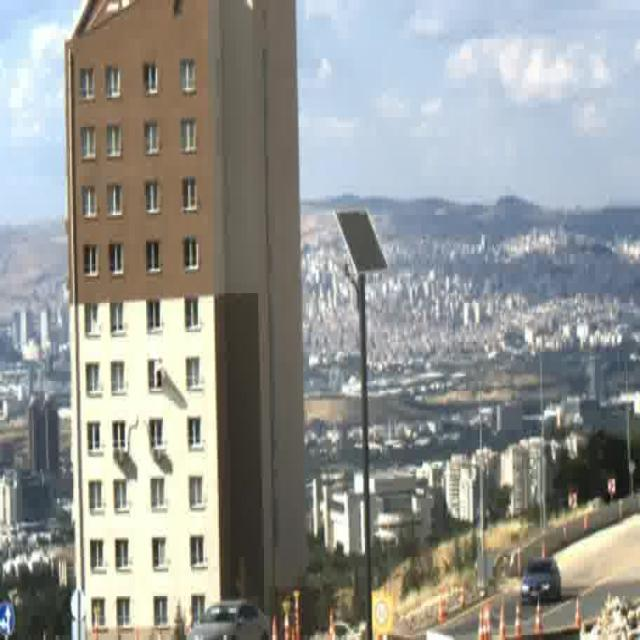Car: (185, 598, 270, 639), (522, 556, 561, 606)
